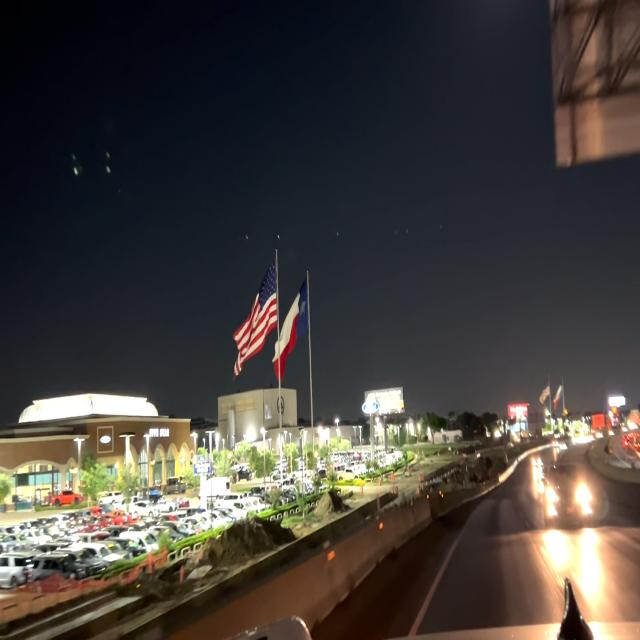back-of-sign: (539, 3, 640, 177)
